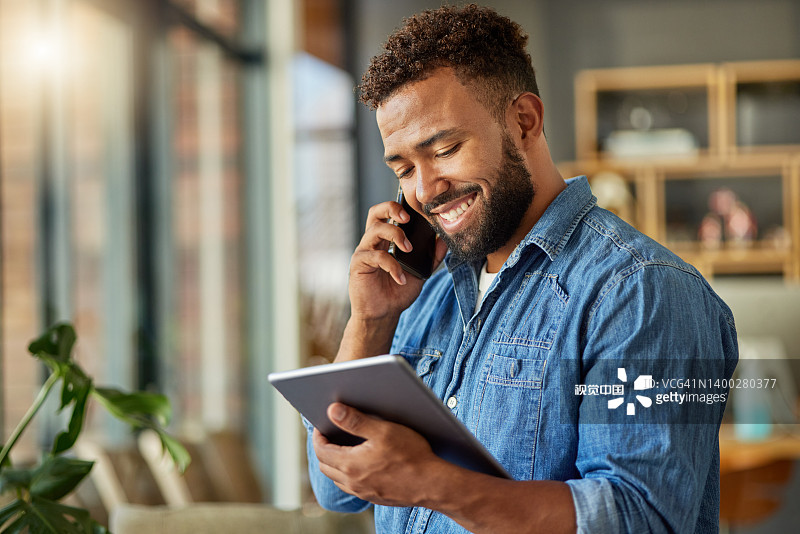calling: (332, 174, 460, 329)
no-phone: (254, 351, 516, 519)
